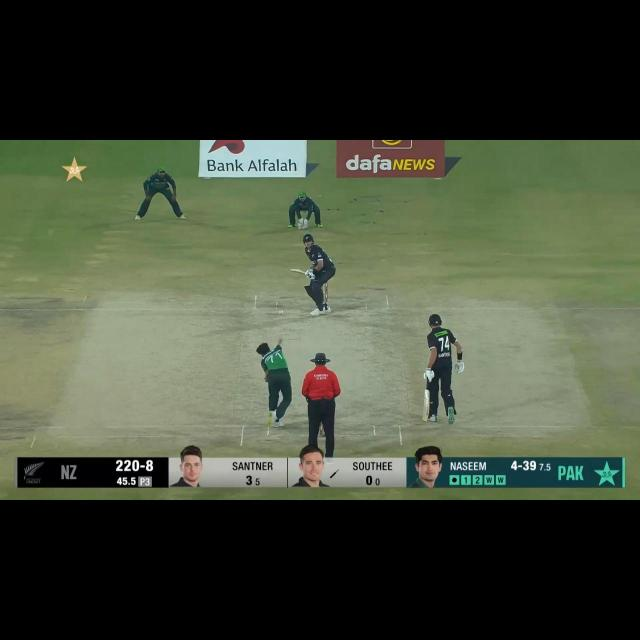bat: (421, 389, 431, 423), (289, 265, 306, 275)
toe: (420, 416, 430, 426), (290, 267, 296, 273)
